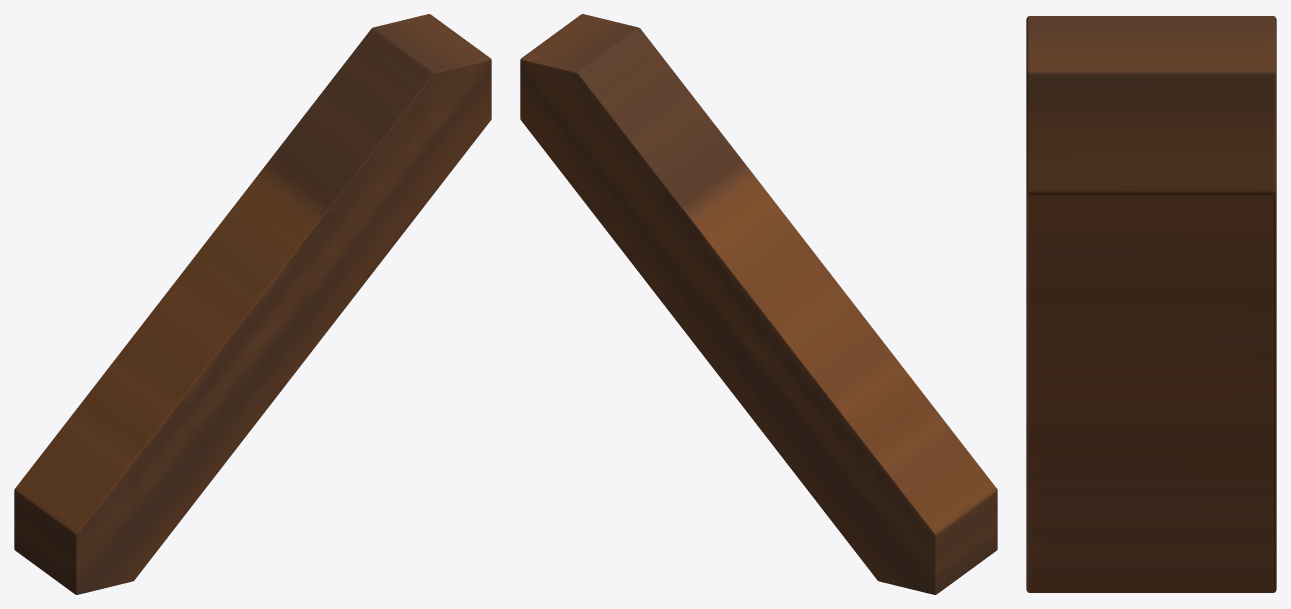
File: CM_FacadeBay01_Brace45_R.fbx
3 renders of one model, left to right at view 1: azimuth 30°, elevation 25°; view 2: azimuth 150°, elevation 25°; view 3: azimuth 270°, elevation 25°, orthographic. The views are drawn at different scales.
Visible parts, largest first — view 1: CM_FacadeBay01_Brace45_R_Timber; view 2: CM_FacadeBay01_Brace45_R_Timber; view 3: CM_FacadeBay01_Brace45_R_Timber.
Part boxes in pixels (<box>): CM_FacadeBay01_Brace45_R_Timber: <box>14,14,491,594</box>; CM_FacadeBay01_Brace45_R_Timber: <box>520,14,997,594</box>; CM_FacadeBay01_Brace45_R_Timber: <box>1026,16,1276,592</box>.
Bounding box in the file's own units: 1 × 1 × 0.26.
